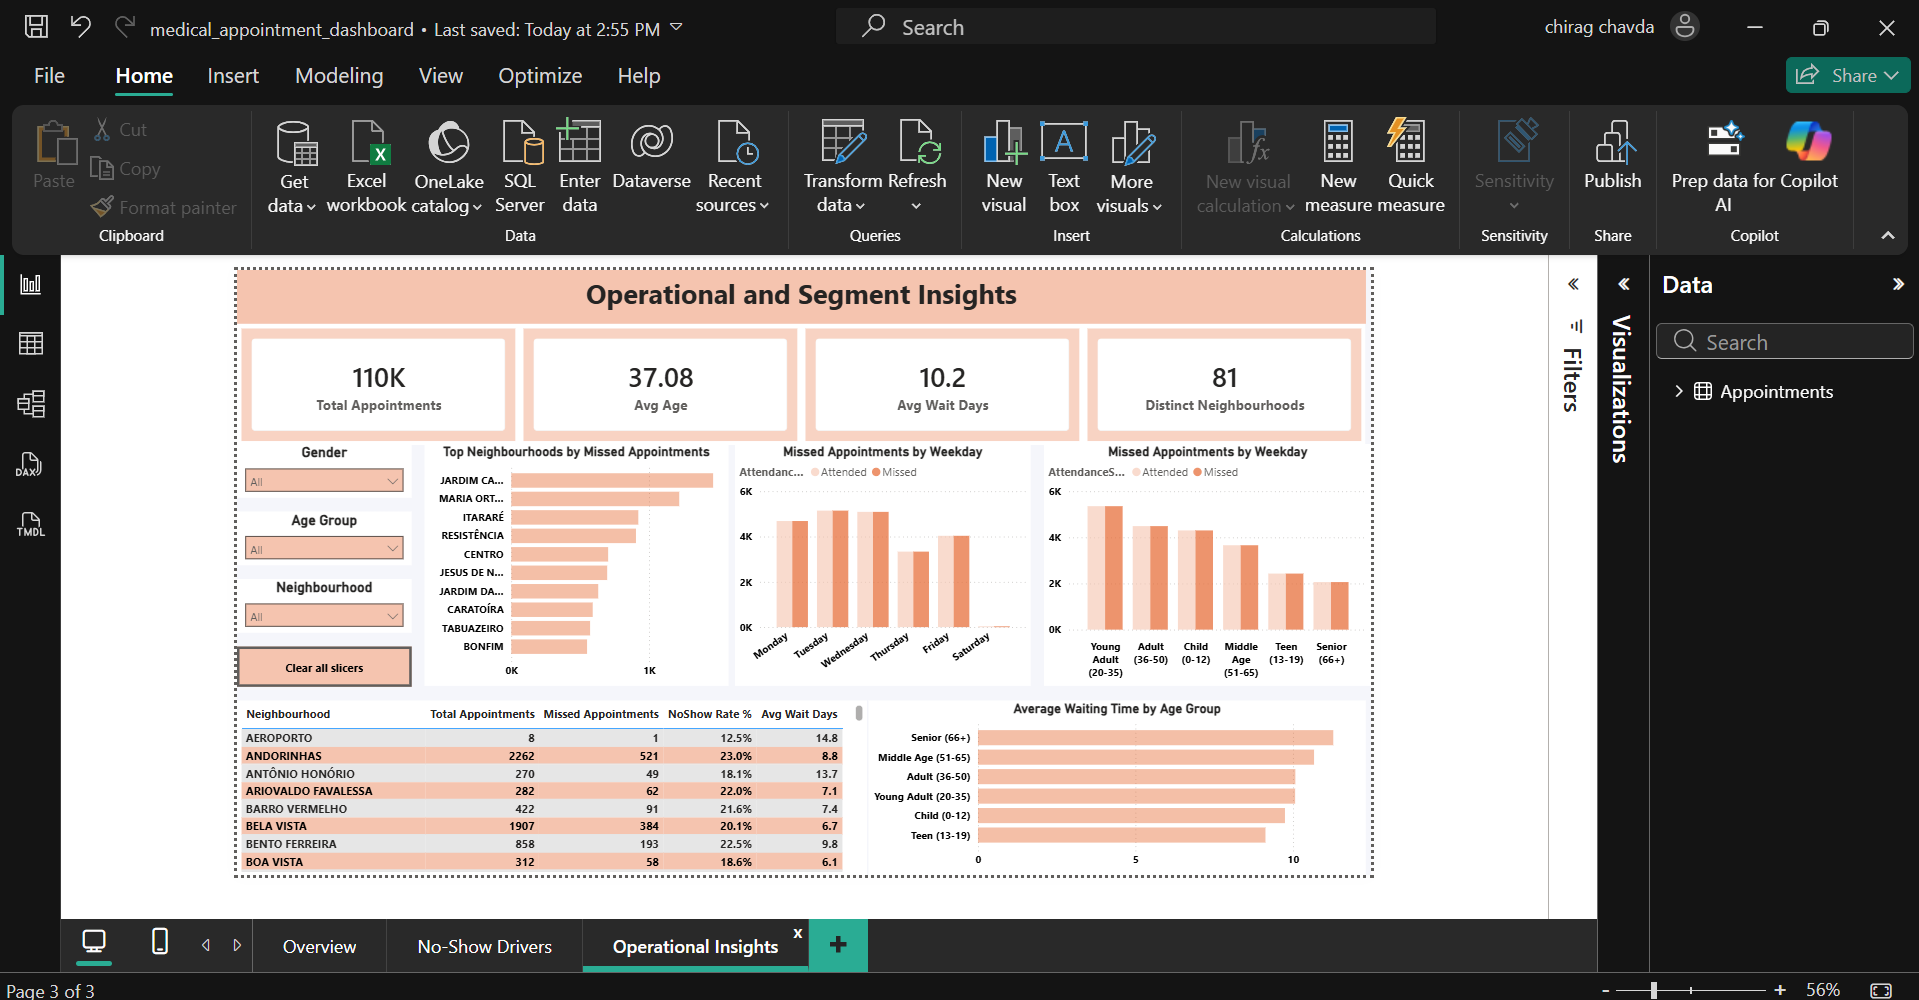

The page's visual inventory and layout, read from the dashboard file:
{"tool":"powerbi","page":{"name":"Operational Insights","canvas":[1350,720],"ordinal":2},"visuals":[{"type":"textbox","box":[0,0,1344,64],"z":0},{"type":"cardVisual","fields":{"Data":["Appointments.Total Appointments"]},"box":[0,64,336,144],"z":1000},{"type":"cardVisual","fields":{"Data":["Appointments.Avg Age"]},"box":[336,64,336,144],"z":2000},{"type":"cardVisual","fields":{"Data":["Appointments.Avg Wait Days"]},"box":[672,64,336,144],"z":3000},{"type":"cardVisual","fields":{"Data":["Appointments.Distinct Neighbourhoods"]},"box":[1008,64,336,144],"z":4000},{"type":"clusteredBarChart","title":"Top Neighbourhoods by Missed Appointments","fields":{"Category":["Appointments.Neighbourhood"],"Y":["Appointments.Missed Appointments"]},"box":[224,208,362,288],"z":5000},{"type":"clusteredColumnChart","title":"Missed Appointments by Weekday","fields":{"Category":["Appointments.AppointmentWeekdayName"],"Y":["Appointments.Missed Appointments"],"Series":["Appointments.AttendanceStatus"]},"box":[592,208,352,288],"z":6000},{"type":"clusteredColumnChart","title":"Missed Appointments by Weekday","fields":{"Y":["Appointments.Missed Appointments"],"Series":["Appointments.AttendanceStatus"],"Category":["Appointments.AgeGroup"]},"box":[960,208,390,288],"z":7000},{"type":"clusteredBarChart","title":"Average Waiting Time by Age Group","fields":{"Category":["Appointments.AgeGroup"],"Y":["Appointments.Avg Wait Days"]},"box":[752,512,592,208],"z":8000},{"type":"tableEx","fields":{"Values":["Appointments.Neighbourhood","Appointments.Total Appointments","Appointments.Missed Appointments","Appointments.NoShow Rate %","Appointments.Avg Wait Days"]},"box":[0,512,750,208],"z":9000},{"type":"slicer","title":"Gender","fields":{"Values":["Appointments.Gender"]},"box":[0,208,208,64],"z":10000},{"type":"slicer","title":"Age Group","fields":{"Values":["Appointments.AgeGroup"]},"box":[0,288,208,64],"z":11000},{"type":"slicer","title":"Neighbourhood","fields":{"Values":["Appointments.Neighbourhood"]},"box":[0,368,208,64],"z":12000},{"type":"actionButton","box":[0,448,208,48],"z":13000}]}

Visuals, with their boxes on the page's 1350x720 design canvas (x1, y1, x2, y2). These are canvas units, not pixel positions in the 1919x1000 screenshot, which may show the page scaled, cropped or inside an application window:
textbox: [0, 0, 1344, 64]
cardVisual - Appointments.Total Appointments: [0, 64, 336, 208]
cardVisual - Appointments.Avg Age: [336, 64, 672, 208]
cardVisual - Appointments.Avg Wait Days: [672, 64, 1008, 208]
cardVisual - Appointments.Distinct Neighbourhoods: [1008, 64, 1344, 208]
"Top Neighbourhoods by Missed Appointments" clusteredBarChart: [224, 208, 586, 496]
"Missed Appointments by Weekday" clusteredColumnChart: [592, 208, 944, 496]
"Missed Appointments by Weekday" clusteredColumnChart: [960, 208, 1350, 496]
"Average Waiting Time by Age Group" clusteredBarChart: [752, 512, 1344, 720]
tableEx - Appointments.Neighbourhood x Appointments.Total Appointments: [0, 512, 750, 720]
"Gender" slicer: [0, 208, 208, 272]
"Age Group" slicer: [0, 288, 208, 352]
"Neighbourhood" slicer: [0, 368, 208, 432]
actionButton: [0, 448, 208, 496]
